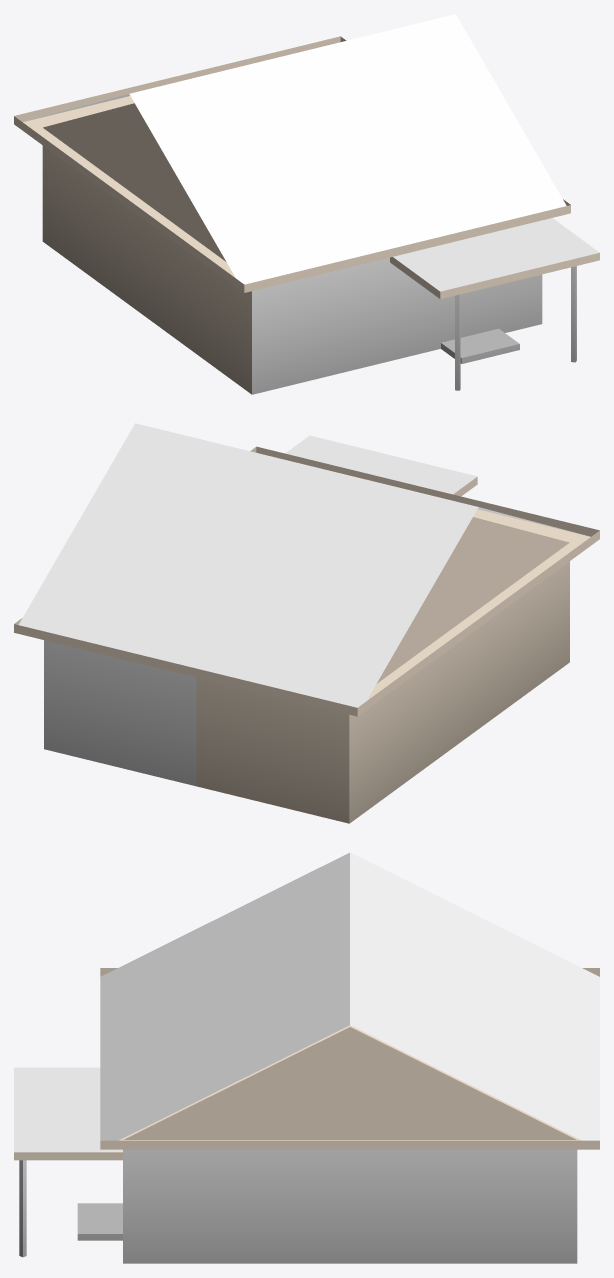
The model's file is HouseA_Peach.fbx.
3 renders of one model, top to bottom at view 1: azimuth 30°, elevation 25°; view 2: azimuth 150°, elevation 25°; view 3: azimuth 270°, elevation 25°, orthographic. The views are drawn at different scales.
Parts seen in each view (by area): view 1: HouseA_Peach; view 2: HouseA_Peach; view 3: HouseA_Peach.
Part boxes in pixels (left/top/right/bottom): HouseA_Peach: left=14, top=14, right=599, bottom=394; HouseA_Peach: left=14, top=423, right=599, bottom=823; HouseA_Peach: left=14, top=852, right=599, bottom=1263.
Bounding box in the file's own units: 9 × 6.03 × 12.9.
